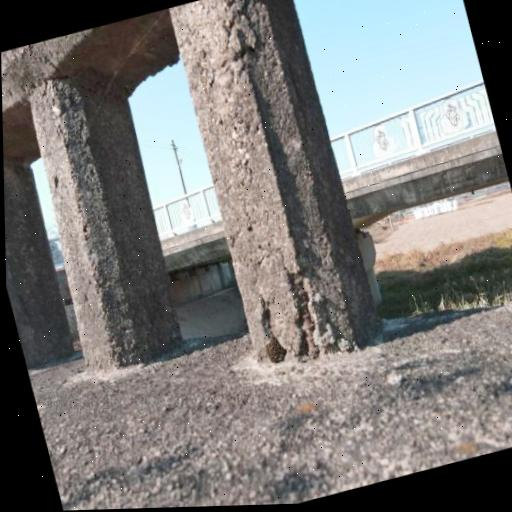exposed_rebar: (298, 289, 319, 356)
